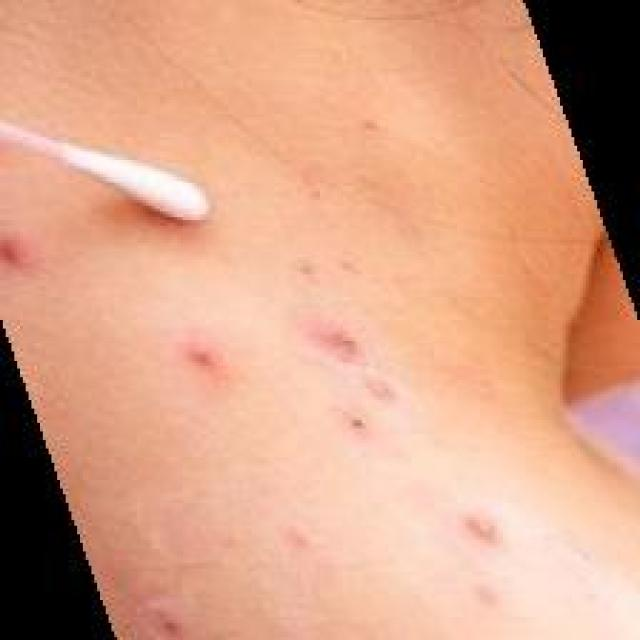monkeypox: (0, 155, 608, 640)
